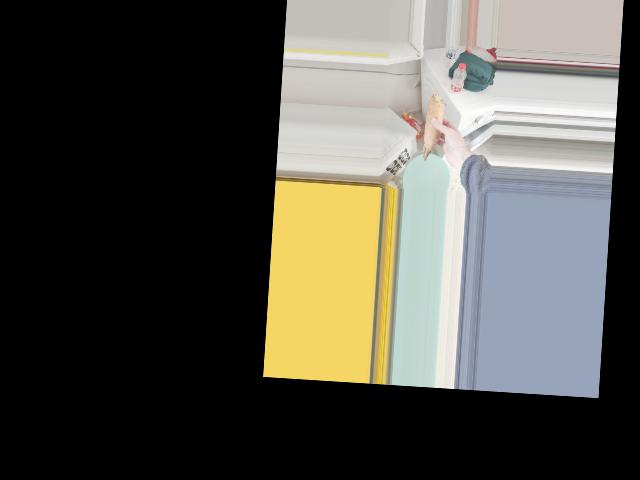sweet_potato: (417, 95, 445, 161)
